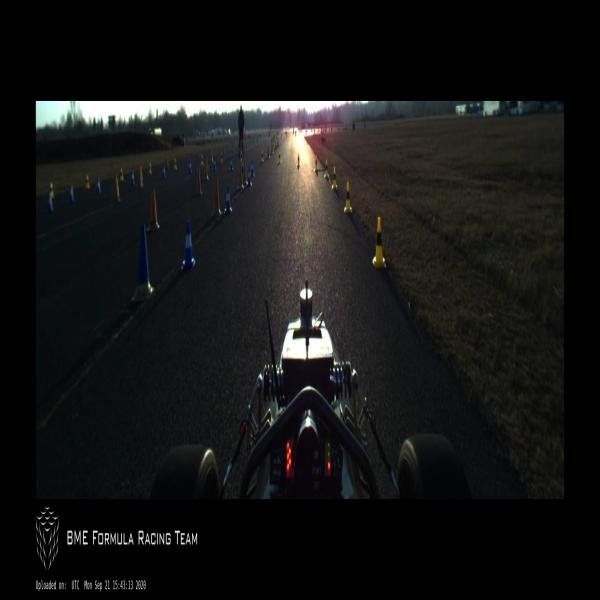blue_cone: (181, 220, 195, 270), (225, 184, 232, 214), (46, 192, 53, 212), (96, 177, 102, 195), (247, 167, 252, 186), (69, 184, 74, 203), (250, 160, 255, 178), (229, 157, 234, 172), (212, 157, 216, 172), (162, 164, 166, 179), (131, 171, 135, 185), (188, 160, 192, 173), (241, 157, 244, 173)
unknown_cone: (131, 224, 155, 297), (146, 188, 160, 230), (210, 177, 222, 217), (112, 174, 121, 202), (195, 169, 202, 195), (137, 164, 143, 189), (238, 164, 244, 189), (204, 158, 208, 180), (267, 145, 270, 158)
yellow_cone: (372, 216, 386, 268), (344, 182, 352, 213), (332, 166, 338, 190), (324, 159, 329, 179), (85, 174, 90, 189), (314, 154, 318, 172), (120, 167, 124, 182), (50, 181, 53, 198), (260, 150, 264, 162), (220, 151, 224, 163), (200, 154, 204, 166), (148, 163, 152, 175), (297, 153, 300, 167), (278, 150, 281, 164), (174, 157, 176, 170), (240, 150, 242, 162)
